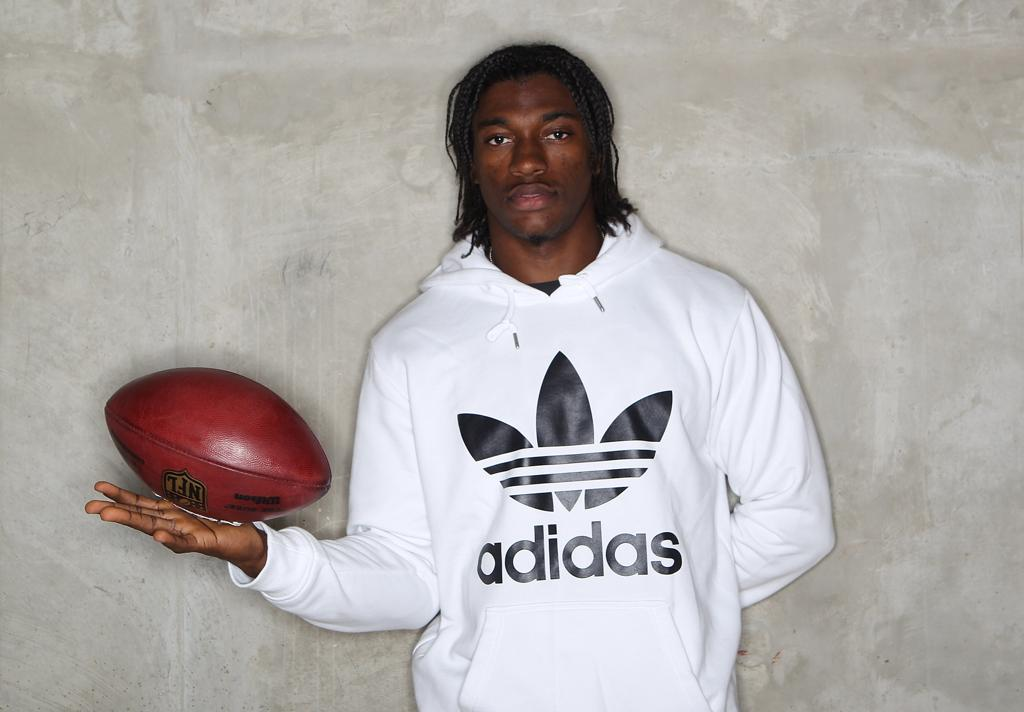face: (476, 78, 586, 244)
